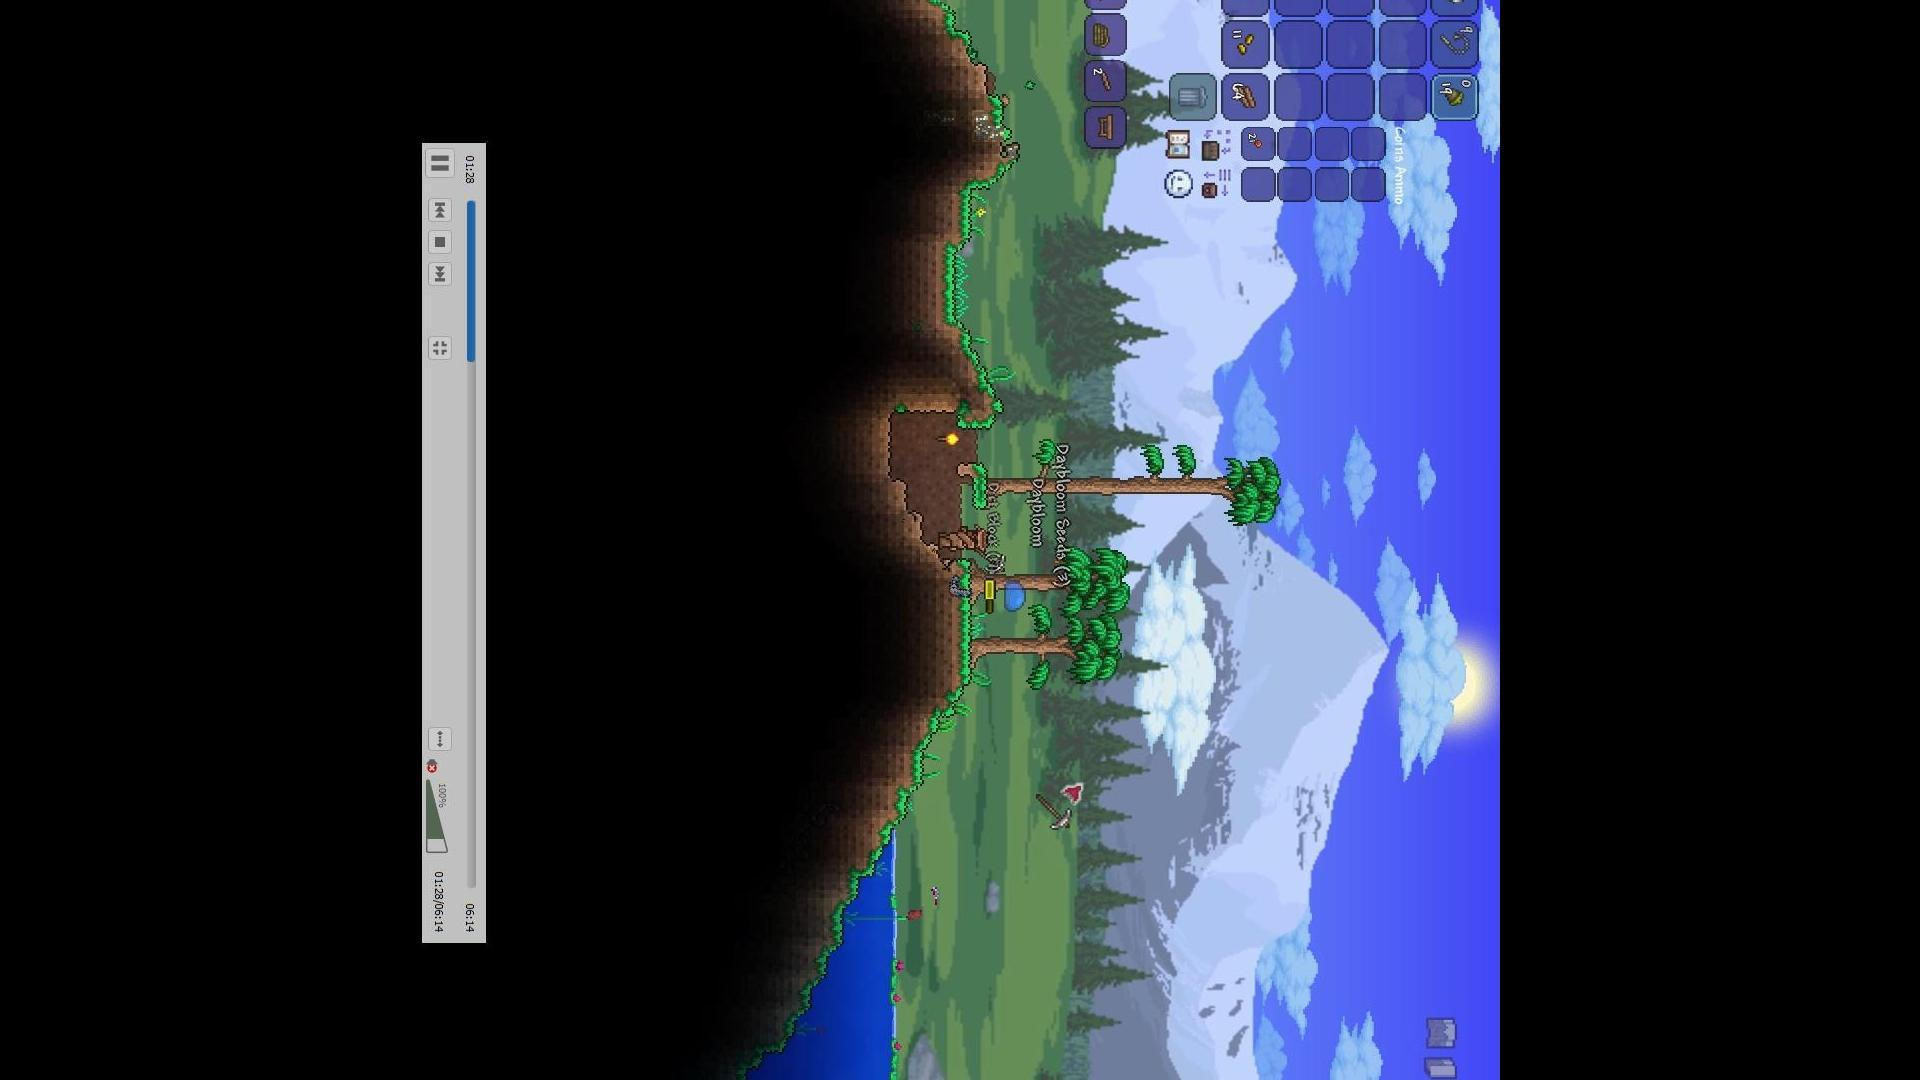pickaxe: (1031, 795, 1073, 833)
slime: (1000, 580, 1031, 615)
